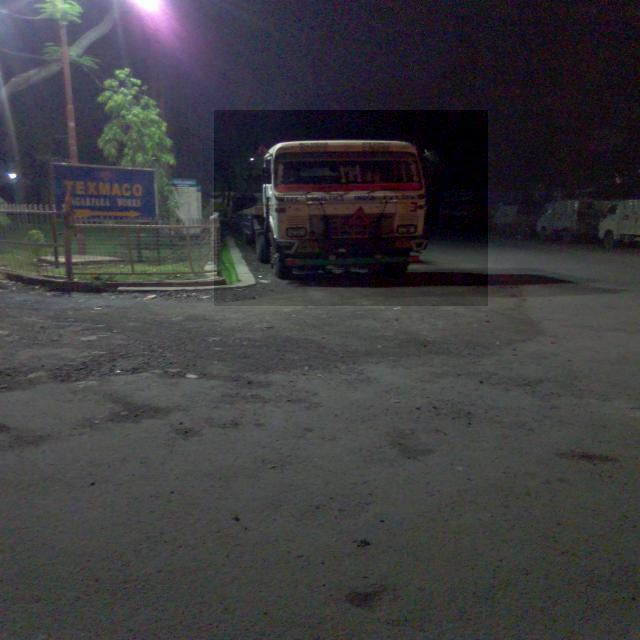Truck: (214, 110, 488, 306)
